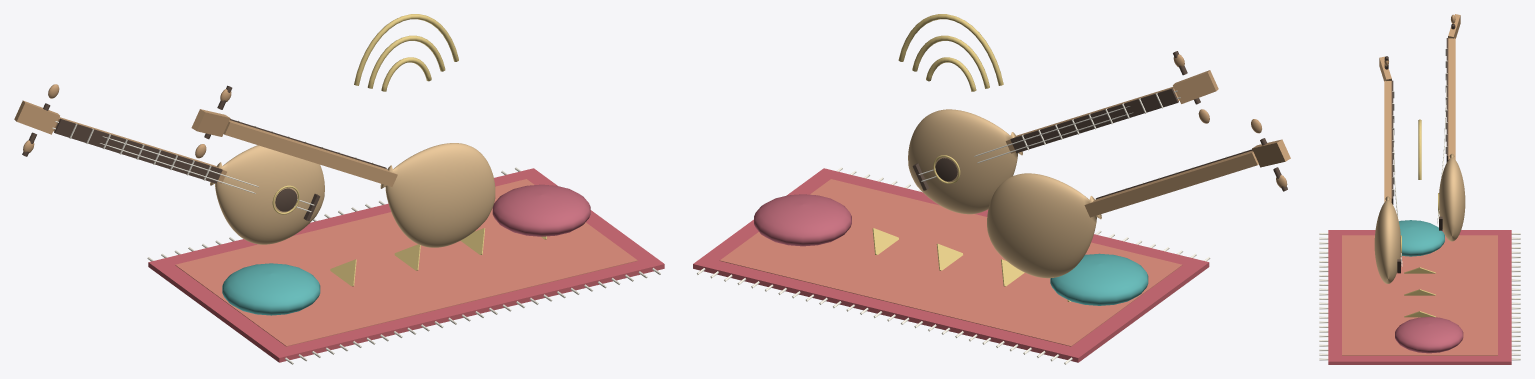
Rendered from aitys.glb.
3 renders of one model, left to right at view 1: azimuth 30°, elevation 25°; view 2: azimuth 150°, elevation 25°; view 3: azimuth 270°, elevation 25°, orthographic. The views are drawn at different scales.
Visible parts, largest first — view 1: carpet-field, body (×2), carpet, cushion (×2), neck, fingerboard, verse (×2), head (×2); view 2: carpet-field, body (×2), carpet, cushion (×2), neck, fingerboard, verse (×2), head (×2); view 3: carpet-field, carpet, body (×2), cushion (×2), neck (×2), fingerboard (×2), head (×2), verse.
Boxes of the visible parts, x1=… form: carpet-field: x1=175, y1=179, x2=637, y2=346; body (×2): x1=210, y1=143, x2=495, y2=247; carpet: x1=148, y1=168, x2=664, y2=362; cushion (×2): x1=222, y1=184, x2=590, y2=315; neck: x1=223, y1=120, x2=397, y2=186; fingerboard: x1=54, y1=118, x2=222, y2=183; verse (×2): x1=354, y1=14, x2=458, y2=88; head (×2): x1=14, y1=100, x2=230, y2=136; carpet-field: x1=719, y1=179, x2=1182, y2=346; body (×2): x1=908, y1=109, x2=1101, y2=278; carpet: x1=693, y1=168, x2=1209, y2=362; cushion (×2): x1=754, y1=194, x2=1148, y2=305; neck: x1=1084, y1=150, x2=1258, y2=217; fingerboard: x1=1010, y1=88, x2=1178, y2=153; verse (×2): x1=898, y1=14, x2=1003, y2=88; head (×2): x1=1173, y1=70, x2=1290, y2=167; carpet-field: x1=1342, y1=235, x2=1497, y2=355; carpet: x1=1328, y1=230, x2=1511, y2=364; body (×2): x1=1374, y1=154, x2=1465, y2=283; cushion (×2): x1=1395, y1=220, x2=1463, y2=353; neck (×2): x1=1384, y1=38, x2=1455, y2=202; fingerboard (×2): x1=1391, y1=38, x2=1448, y2=204; head (×2): x1=1379, y1=14, x2=1460, y2=81; verse: x1=1418, y1=119, x2=1421, y2=179.
Size of the model in its own units: 4.92 by 2.21 by 2.2.
